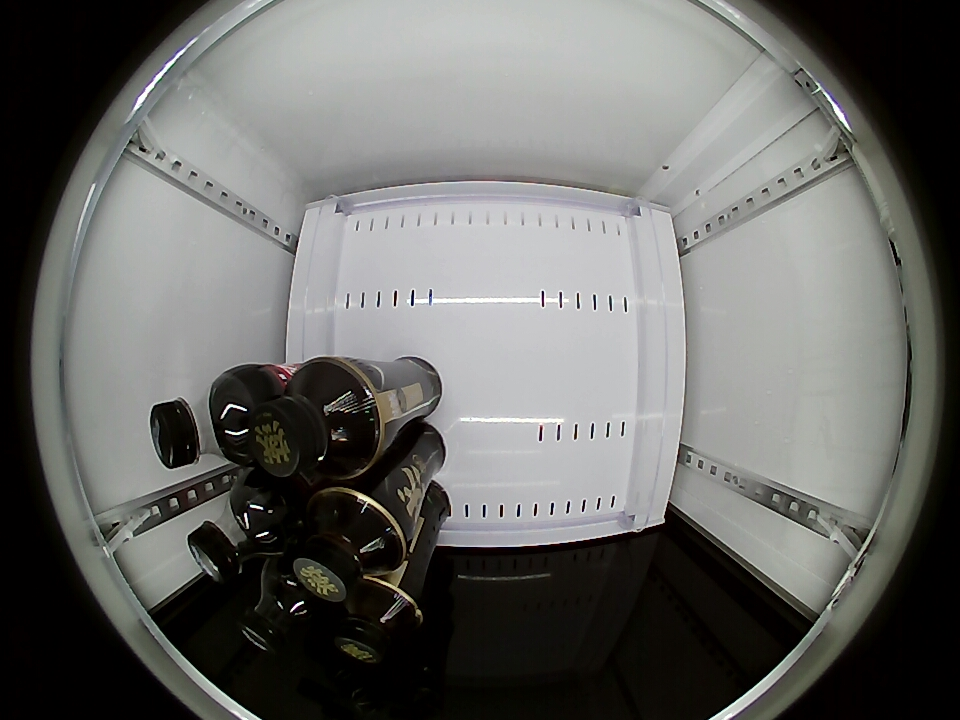lingdukele-b: (187, 476, 292, 583), (150, 374, 256, 468), (238, 565, 326, 654)
rancha-1: (249, 356, 383, 480), (290, 487, 407, 601), (336, 577, 424, 664)
